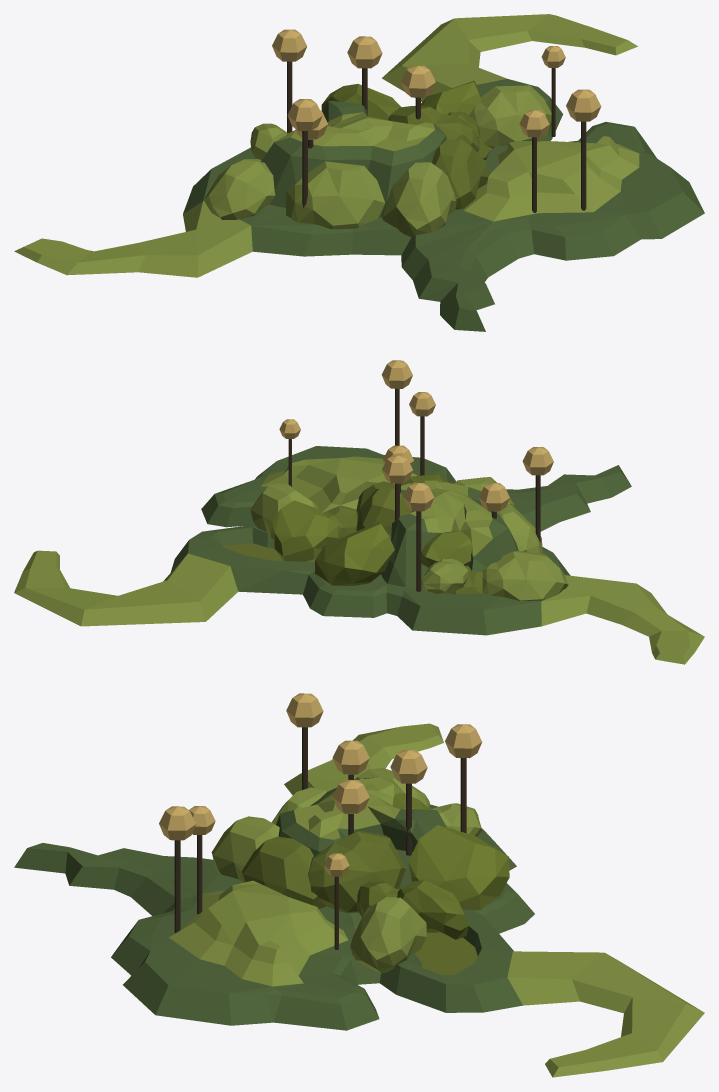
File: EA03_Nature_TrunkPlant_01a.glb
The picture shows the model from 3 angles, top to bottom: view 1: azimuth 30°, elevation 25°; view 2: azimuth 150°, elevation 25°; view 3: azimuth 270°, elevation 25°; orthographic projection. The views are drawn at different scales.
Visible parts, largest first — view 1: EA03_Nature_TrunkPlant_01a; view 2: EA03_Nature_TrunkPlant_01a; view 3: EA03_Nature_TrunkPlant_01a.
Boxes of the visible parts, <box> form: EA03_Nature_TrunkPlant_01a: <box>14,14,704,331</box>; EA03_Nature_TrunkPlant_01a: <box>14,360,704,664</box>; EA03_Nature_TrunkPlant_01a: <box>14,693,704,1077</box>.
Size of the model in its own units: 4.41 by 0.8877 by 3.67.
1 material, 1 textured.
